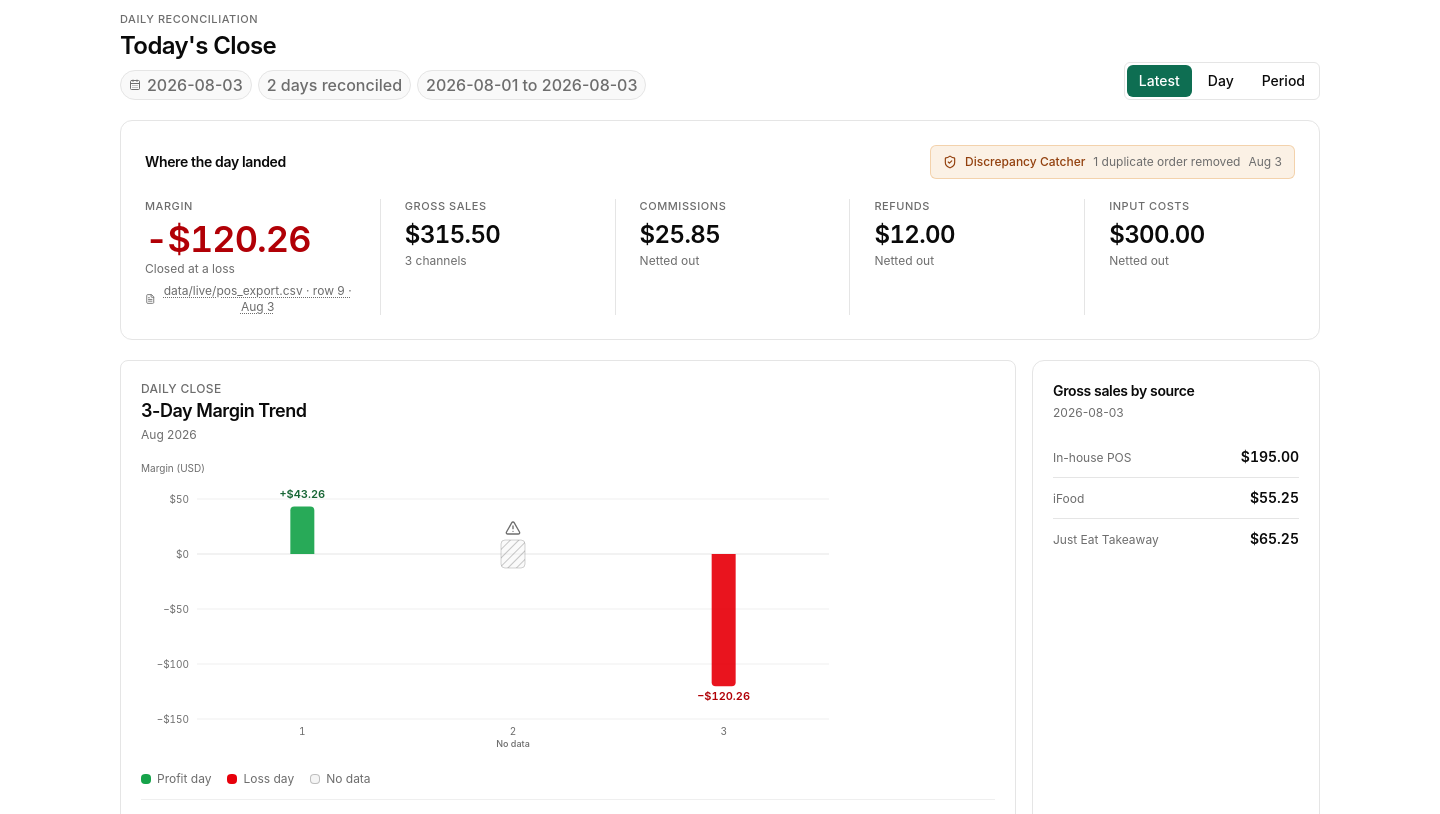
Test: ClosePage › Period view always shows results for its current range, but requires an explicit "Show results" click to apply an edit › shows a "choose dates" prompt once the owner clears a field while already in Period view
The width and height of the screenshot is (1440, 814).
Expected: the text "-$120.26" is shown, [145, 217, 311, 261]
Click the button "Period" at (1283, 81), box [1250, 65, 1317, 97]
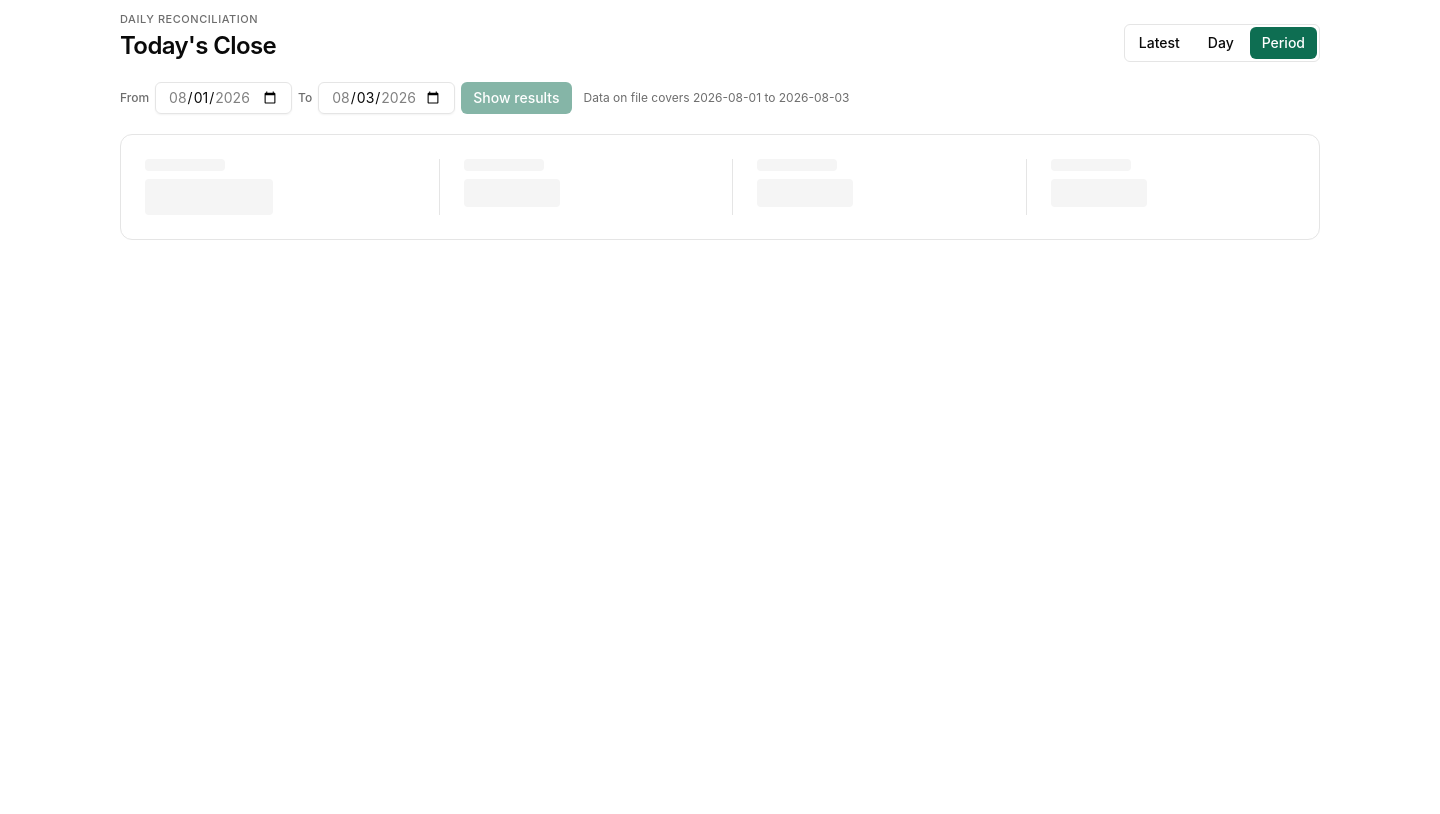
Clear the date field labelled "From" at (224, 98), box [155, 82, 292, 114]
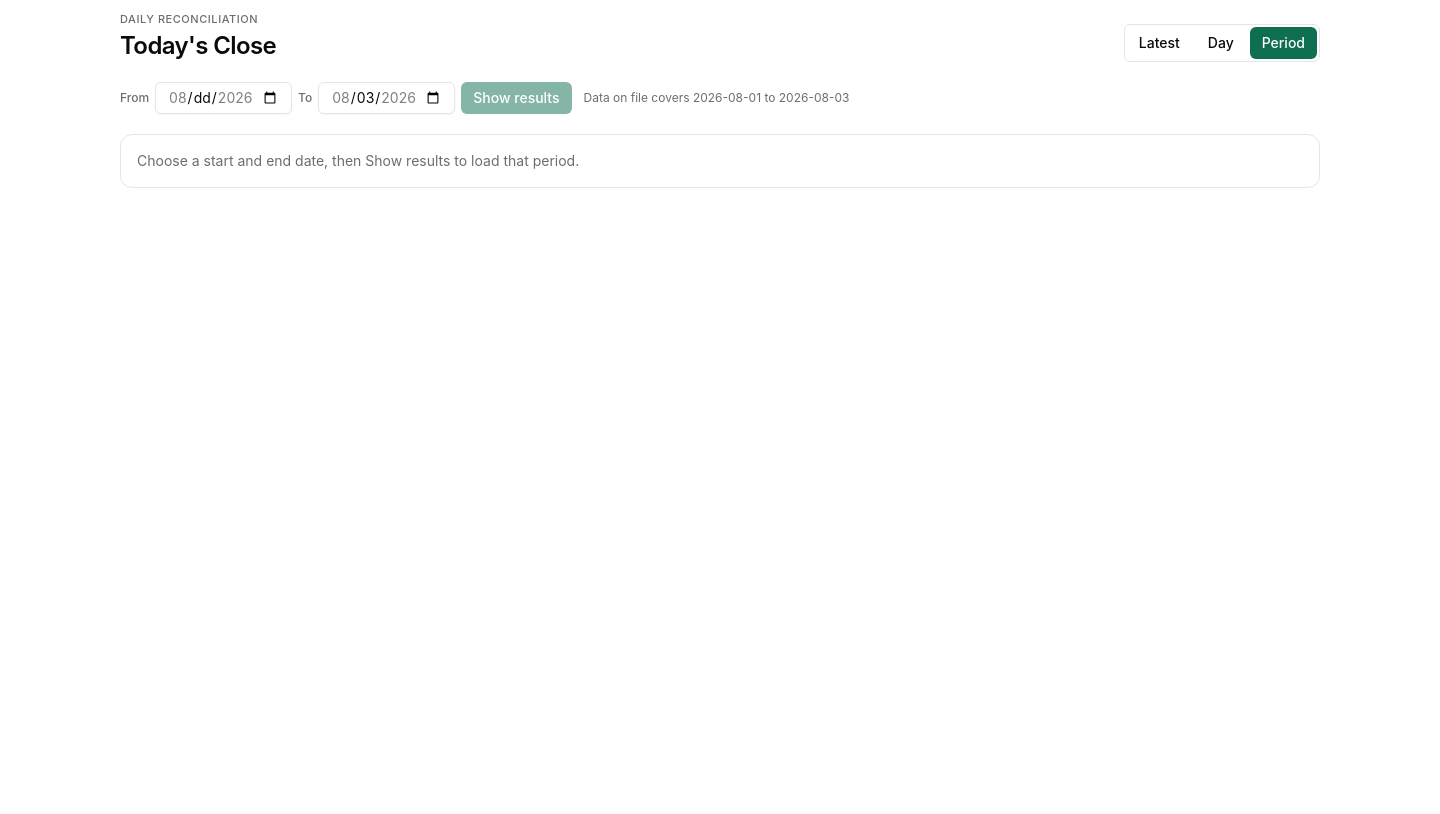
Expected: the text "Show results to load that period" is shown, [137, 152, 579, 169]
